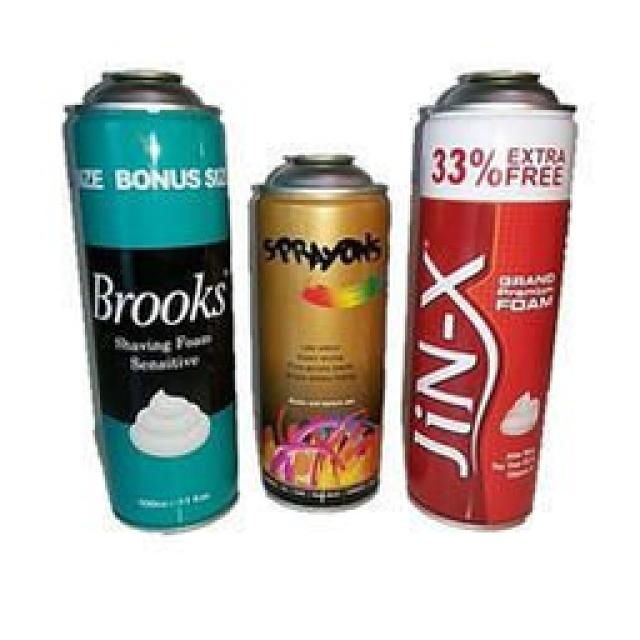zat_kimia: (64, 78, 240, 530), (405, 79, 574, 529), (257, 157, 392, 510)
